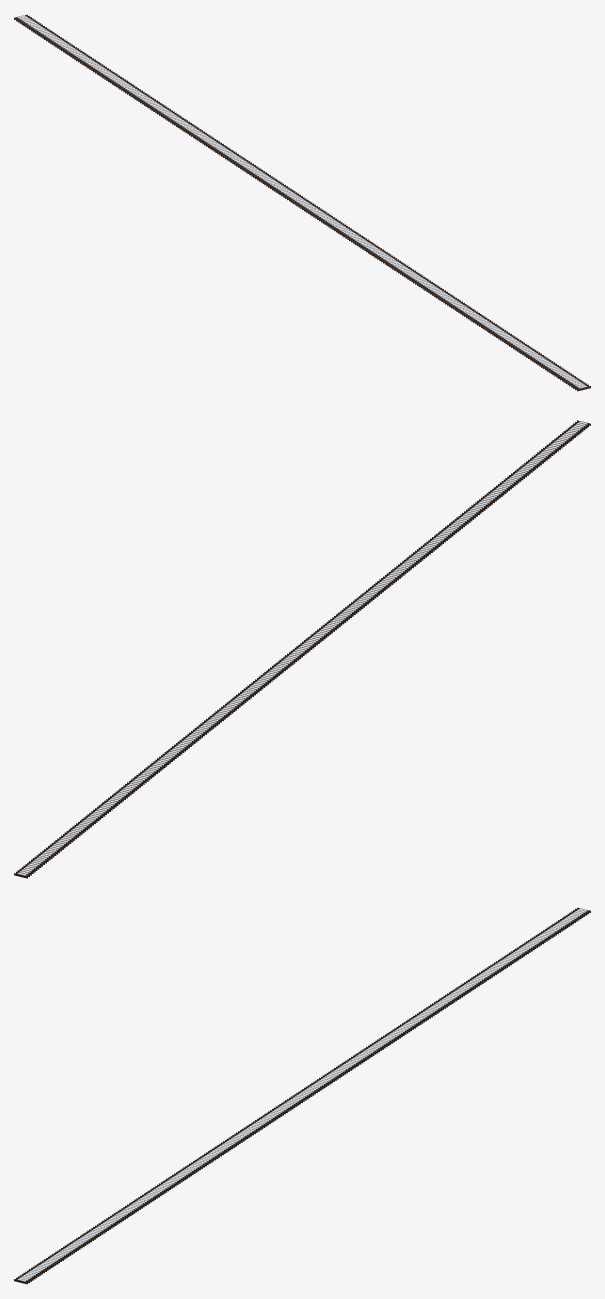
The model's file is Ties_-2_-4.fbx.
3 views of the same model, one above another, from view 1: azimuth 30°, elevation 25°; view 2: azimuth 150°, elevation 25°; view 3: azimuth 330°, elevation 25° (orthographic).
Visible parts, largest first — view 1: Ties_-2_-4; view 2: Ties_-2_-4; view 3: Ties_-2_-4.
Boxes of the visible parts, x1=… form: Ties_-2_-4: x1=14, y1=14, x2=590, y2=391; Ties_-2_-4: x1=14, y1=420, x2=590, y2=878; Ties_-2_-4: x1=14, y1=907, x2=590, y2=1284.
Size of the model in its own units: 840 by 2505 by 59844.
